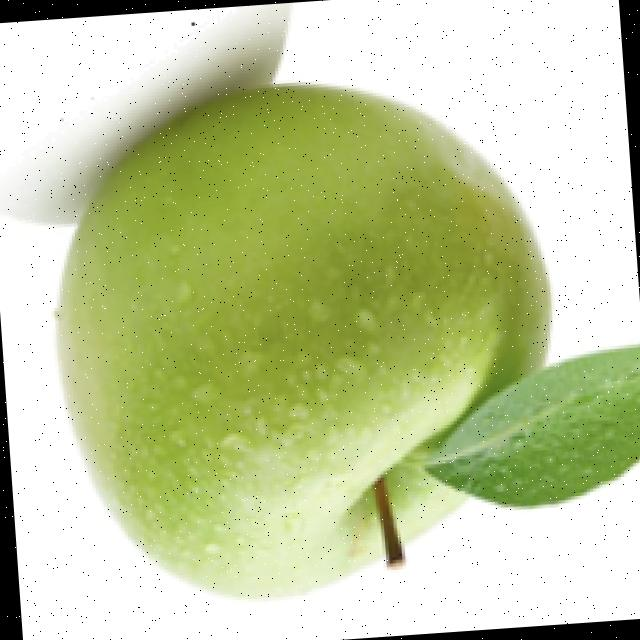apple: (0, 4, 640, 604)
